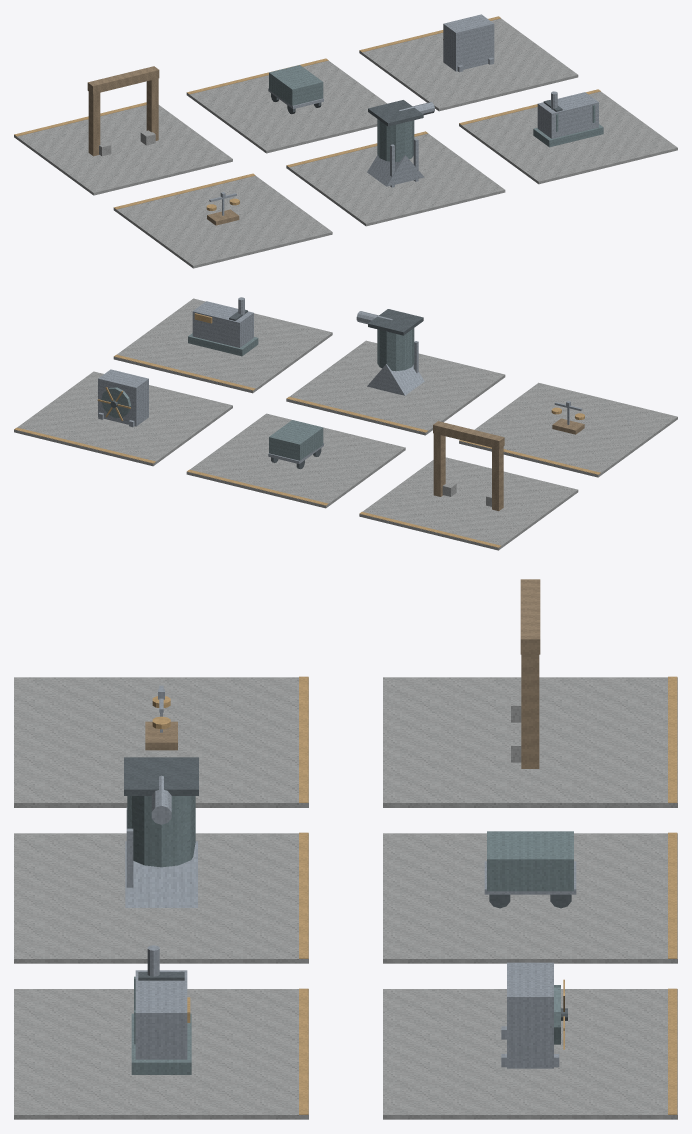
Rendered from level_blockout_kit_wld_05_p01.glb.
The picture shows the model from 3 angles, top to bottom: view 1: azimuth 30°, elevation 25°; view 2: azimuth 150°, elevation 25°; view 3: azimuth 270°, elevation 25°; orthographic projection. The views are drawn at different scales.
Parts seen in each view (by area): view 1: level_blockout_kit_wld_05_p01; view 2: level_blockout_kit_wld_05_p01; view 3: level_blockout_kit_wld_05_p01.
Part boxes in pixels (x1=…): level_blockout_kit_wld_05_p01: x1=14, y1=14, x2=677, y2=268; level_blockout_kit_wld_05_p01: x1=14, y1=297, x2=677, y2=550; level_blockout_kit_wld_05_p01: x1=14, y1=579, x2=677, y2=1119.
Bounding box in the file's own units: 19.65 × 2.84 × 12.6.
Materials: 6 (6 with a texture image).
